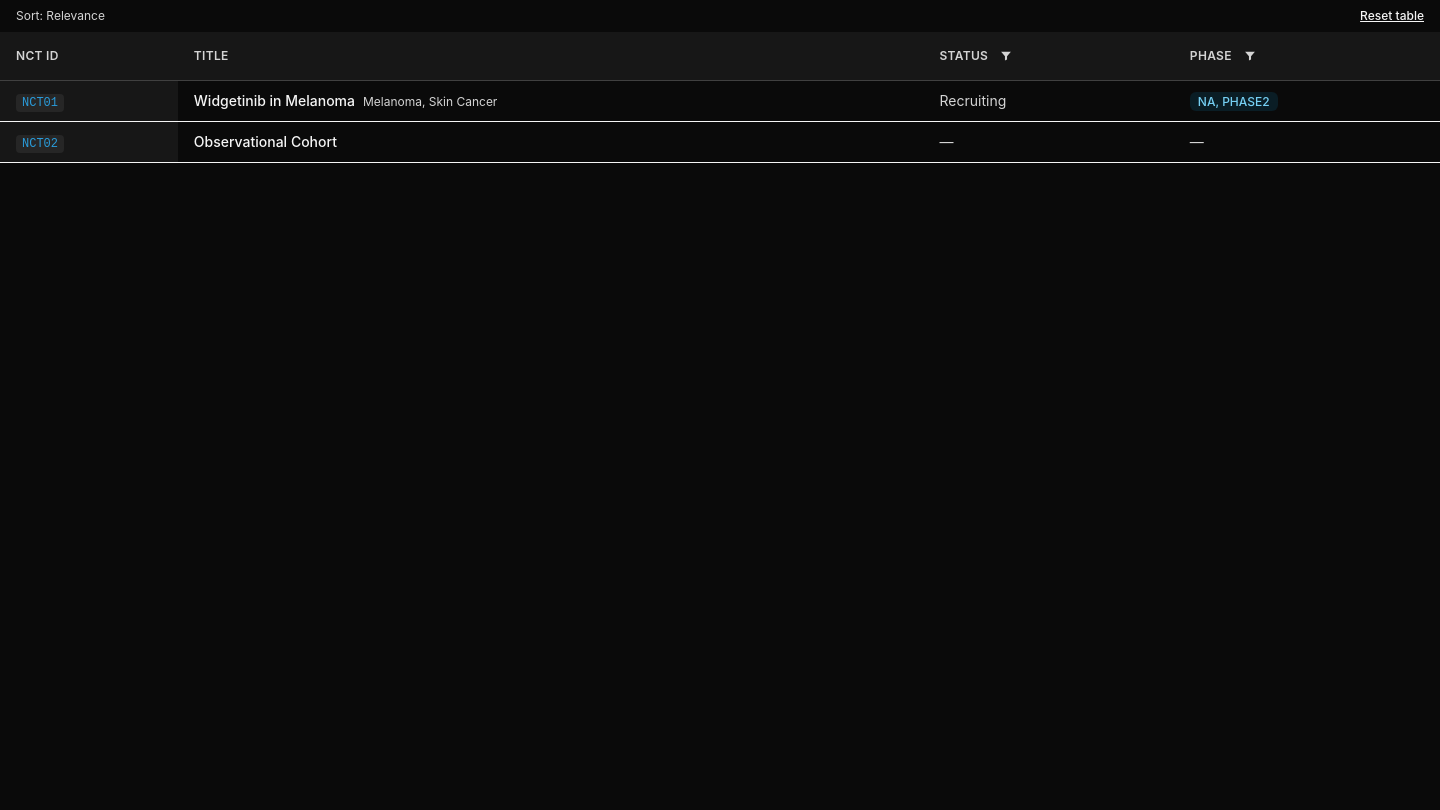
Scenario: CtResultsTable › offers only the canonical filterable phases and never returned-only NA
Click the button named "Filter Phase" at (1250, 56), box [1236,42,1264,70]
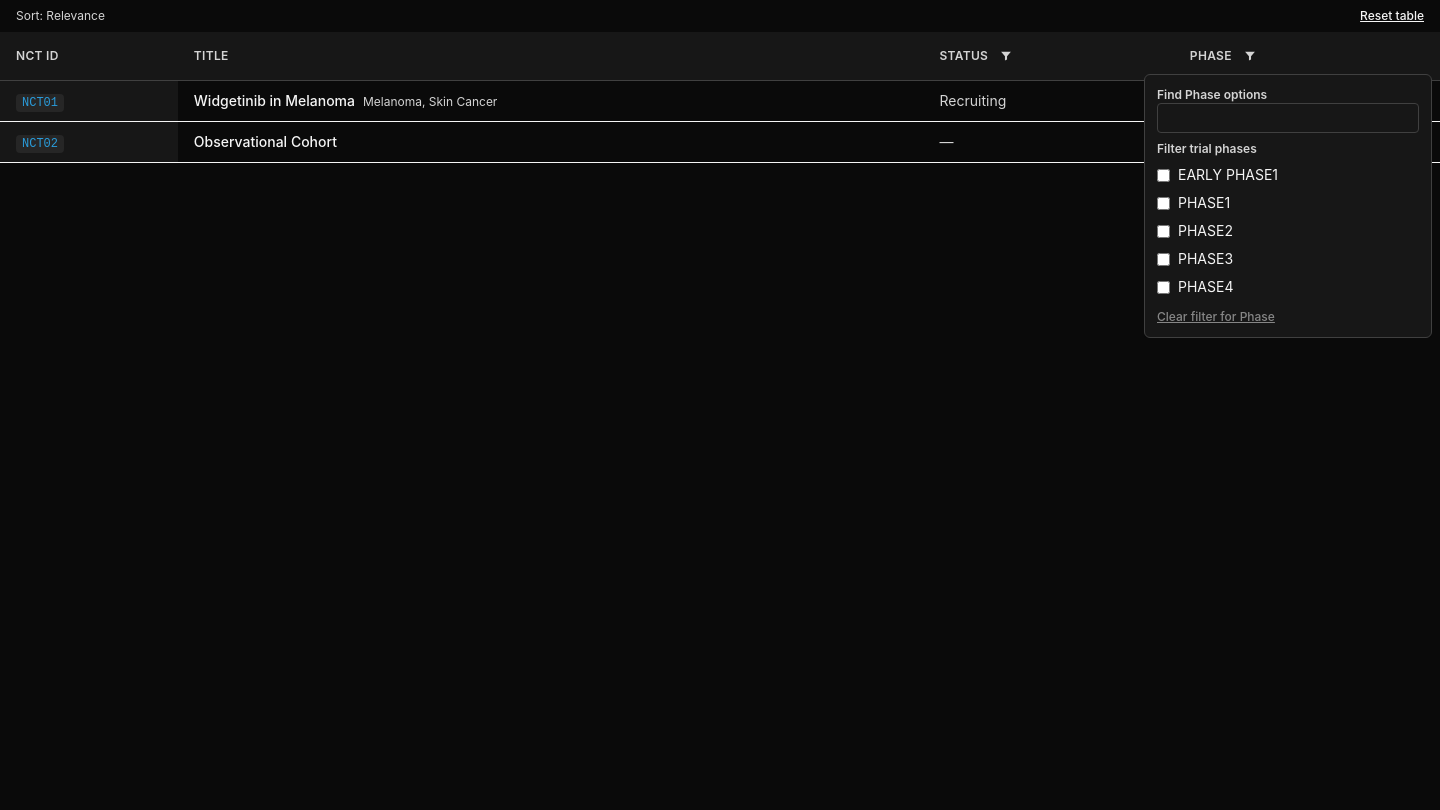
Check: the checkbox labelled "EARLY PHASE1" is shown, box [1157,168,1170,182]
Check: the checkbox labelled "PHASE1" is shown, box [1157,196,1170,210]
Check: the checkbox labelled "PHASE2" is shown, box [1157,224,1170,238]
